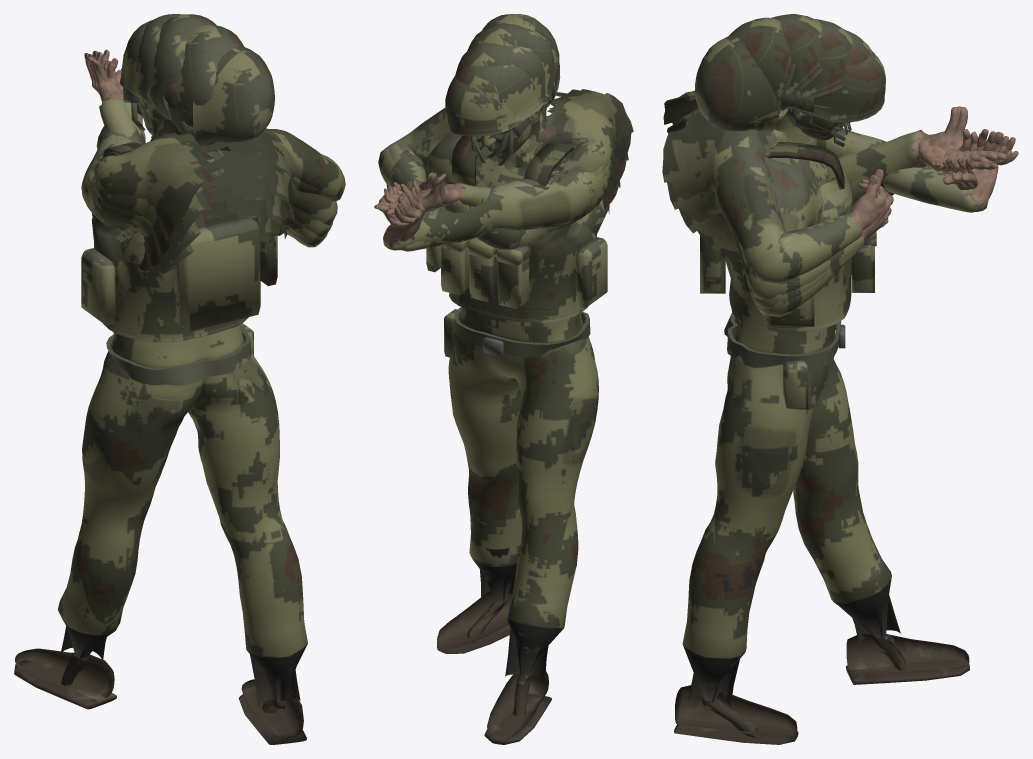
Rendered from crew_strela2.glb.
3 views of the same model, side by side, from view 1: azimuth 30°, elevation 25°; view 2: azimuth 150°, elevation 25°; view 3: azimuth 270°, elevation 25° (orthographic). The views are drawn at different scales.
Visible parts, largest first — view 1: turret, ca5, th5, ca4, ca3, th4, ca2, th3, th2, ca1, th1, ca0 (+1 smaller); view 2: turret, ca0, ca5, th0, th1, ca3, th2, ca4, th3, ca2, th4, ca1 (+1 smaller); view 3: turret, ca5, ca4, th5, ca1, ca0, th0, ca3, th4, ca2, th3, th2 (+1 smaller).
Boxes of the visible parts, bbox=[...] form: turret: bbox=[14, 142, 307, 744]; ca5: bbox=[88, 58, 344, 248]; th5: bbox=[151, 46, 274, 152]; ca4: bbox=[91, 59, 345, 255]; ca3: bbox=[86, 56, 337, 267]; th4: bbox=[155, 24, 244, 137]; ca2: bbox=[87, 49, 332, 277]; th3: bbox=[147, 14, 216, 123]; th2: bbox=[137, 14, 181, 123]; ca1: bbox=[88, 51, 327, 279]; th1: bbox=[124, 20, 213, 172]; ca0: bbox=[81, 50, 320, 247]; turret: bbox=[426, 135, 607, 744]; ca0: bbox=[379, 134, 595, 250]; ca5: bbox=[384, 89, 633, 210]; th0: bbox=[445, 72, 542, 169]; th1: bbox=[456, 64, 543, 169]; ca3: bbox=[374, 120, 620, 250]; th2: bbox=[455, 42, 548, 167]; ca4: bbox=[378, 104, 628, 208]; th3: bbox=[467, 24, 557, 167]; ca2: bbox=[399, 132, 609, 251]; th4: bbox=[482, 14, 559, 170]; ca1: bbox=[382, 133, 593, 229]; turret: bbox=[674, 132, 969, 744]; ca5: bbox=[662, 90, 989, 270]; ca4: bbox=[667, 107, 997, 283]; th5: bbox=[695, 34, 816, 145]; ca1: bbox=[721, 131, 1012, 315]; ca0: bbox=[763, 128, 1018, 317]; th0: bbox=[788, 51, 885, 146]; ca3: bbox=[679, 107, 1006, 300]; th4: bbox=[728, 17, 815, 145]; ca2: bbox=[697, 129, 1006, 309]; th3: bbox=[771, 14, 822, 144]; th2: bbox=[789, 19, 852, 144].
Size of the model in its own units: 0.676 by 1.82 by 0.8537.
Materials: 1 (1 with a texture image).
